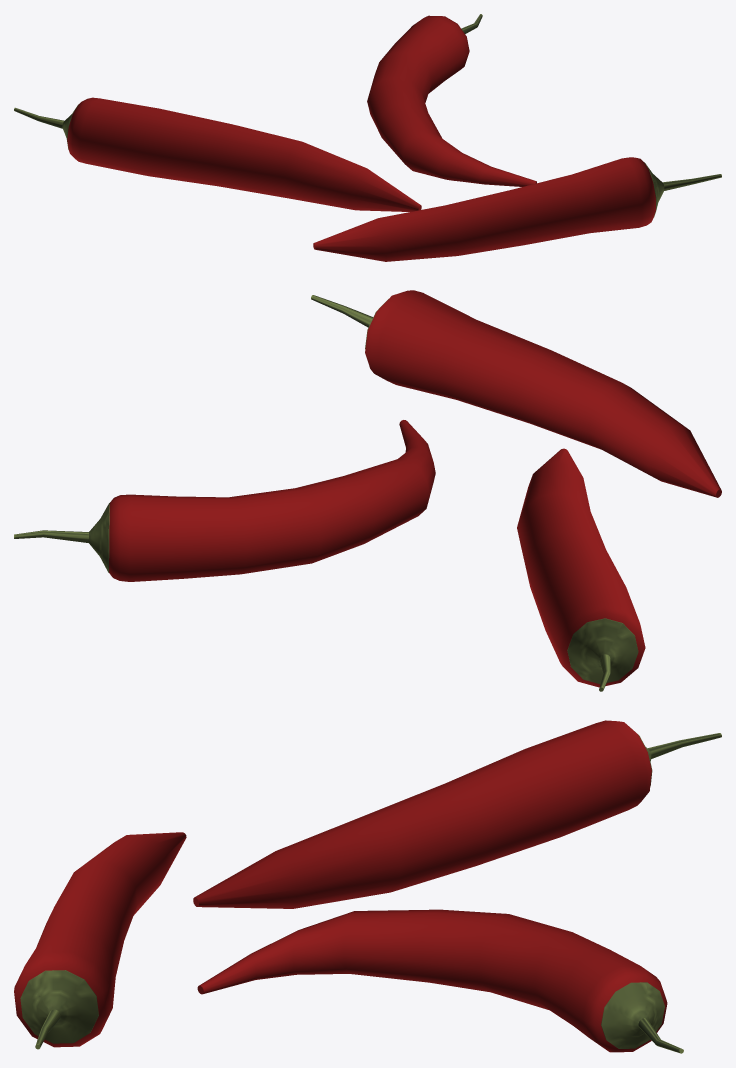
Rendered from chili.glb.
3 views of the same model, one above another, from view 1: azimuth 30°, elevation 25°; view 2: azimuth 150°, elevation 25°; view 3: azimuth 270°, elevation 25° (orthographic). The views are drawn at different scales.
Parts seen in each view (by area): view 1: SM_Chili01a; view 2: SM_Chili01a; view 3: SM_Chili01a.
Boxes of the visible parts, x1,y1,x2,y2 form: SM_Chili01a: (14,14,721,261); SM_Chili01a: (14,290,721,691); SM_Chili01a: (14,720,721,1053).
Bounding box in the file's own units: 0.0778 × 0.0106 × 0.0742.
Materials: 1 (1 with a texture image).
